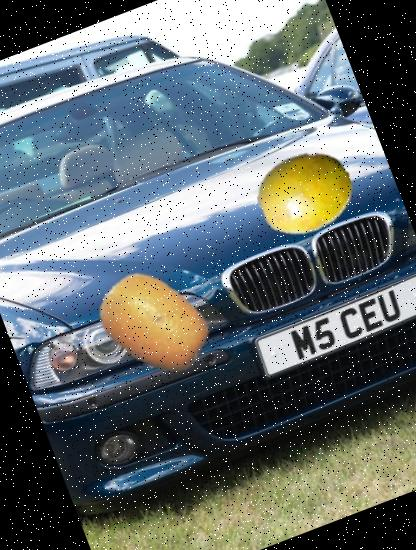Kumquats: (79, 248, 229, 398)
Maracuja: (243, 132, 366, 255)
